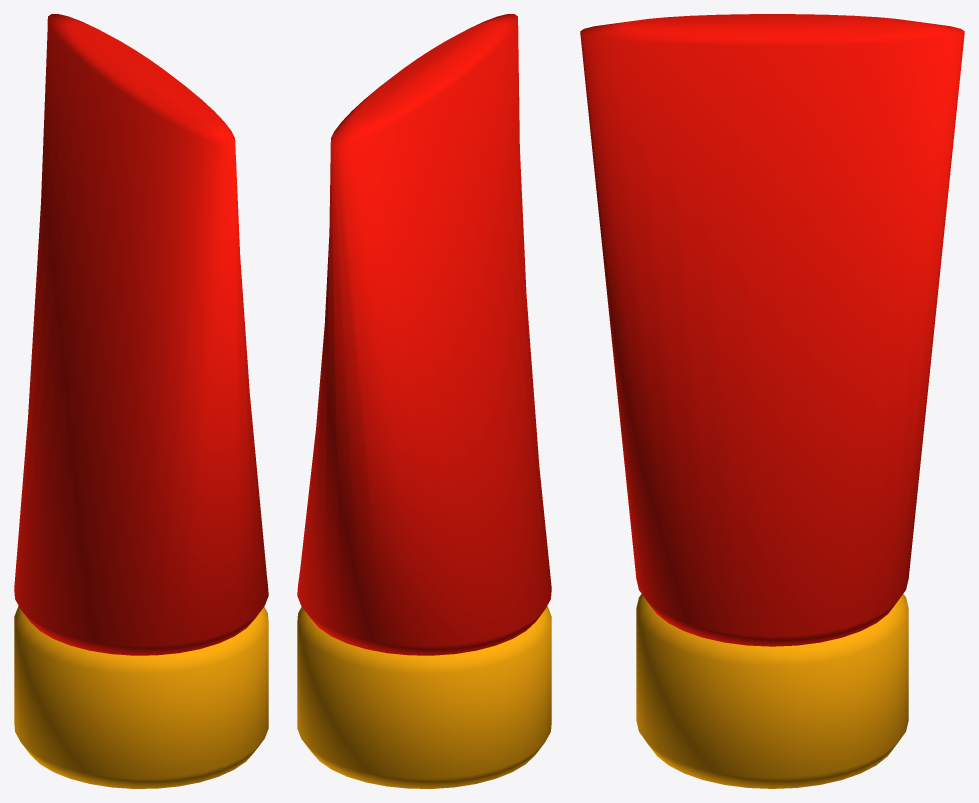
The model's file is Savon_1.fbx.
3 views of the same model, side by side, from view 1: azimuth 30°, elevation 25°; view 2: azimuth 150°, elevation 25°; view 3: azimuth 270°, elevation 25° (orthographic). The views are drawn at different scales.
Parts seen in each view (by area): view 1: Cylinder.002; view 2: Cylinder.002; view 3: Cylinder.002.
Part boxes in pixels (x1=…): Cylinder.002: x1=14, y1=14, x2=268, y2=788; Cylinder.002: x1=297, y1=14, x2=551, y2=788; Cylinder.002: x1=580, y1=14, x2=964, y2=788.
Bounding box in the file's own units: 22.47 × 65.33 × 31.73.
